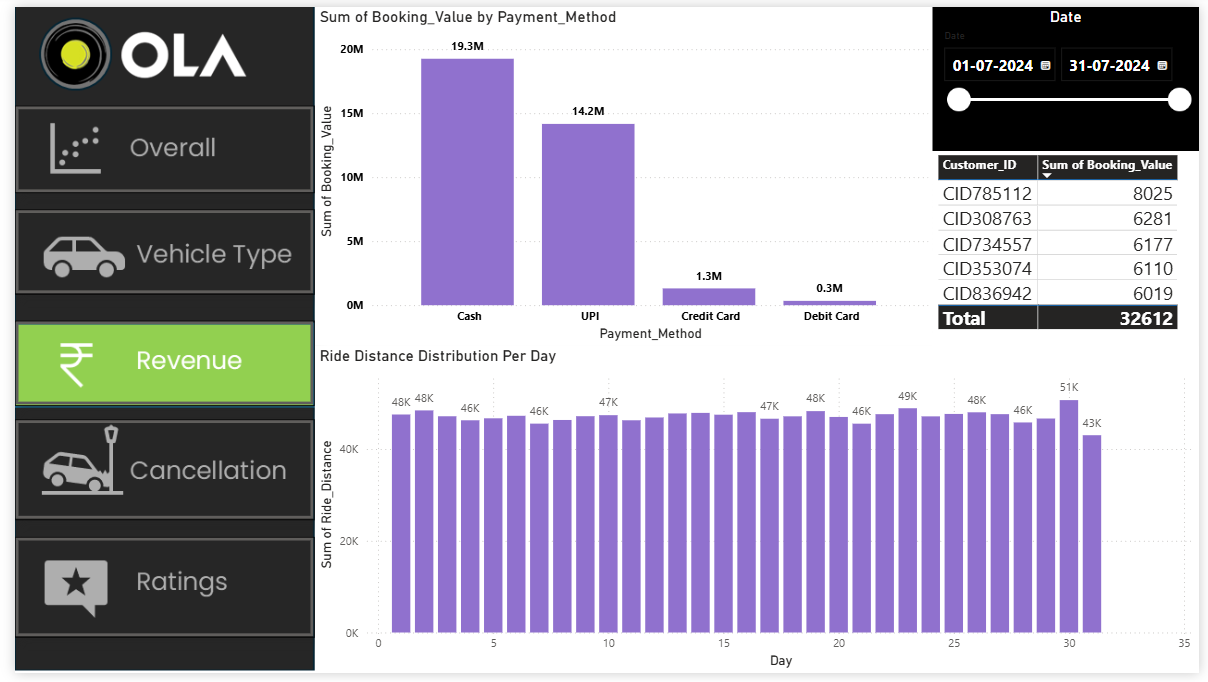

Layout of this report page (visuals, bound fields, positions):
{"tool":"powerbi","page":{"name":"Revenue","canvas":[1280,720],"ordinal":2},"visuals":[{"type":"actionButton","box":[0,338.9,323.8,91.9],"z":0},{"type":"actionButton","box":[0,446,323.8,108.4],"z":1000},{"type":"actionButton","box":[0,219.6,323.8,91.9],"z":2000},{"type":"actionButton","box":[0,573.6,323.8,108.4],"z":3000},{"type":"actionButton","box":[0,107,323.8,94.7],"z":4000},{"type":"columnChart","fields":{"Y":["Sum(Bookings.Booking_Value)"],"Category":["Bookings.Payment_Method"]},"box":[323.8,0,668.3,366.4],"z":5000},{"type":"columnChart","title":"Ride Distance Distribution Per Day","fields":{"Y":["Sum(Bookings.Ride_Distance)"],"Category":["Bookings.Date.Variation.Date Hierarchy.Day"]},"box":[323.8,366.4,956.4,354],"z":6000},{"type":"tableEx","fields":{"Values":["Bookings.Customer_ID","Sum(Bookings.Booking_Value)"]},"box":[992.1,155.1,288.2,230.5],"z":7000},{"type":"slicer","title":"Date","fields":{"Values":["Bookings.Date"]},"box":[992.1,0,288.2,155.1],"z":8000}]}

Visuals, with their boxes in screenshot pixels (x1, y1, x2, y2), scaled from the page's 1280x720 canvas onto the 1208x682 screenshot:
actionButton: crop(0, 321, 306, 408)
actionButton: crop(0, 422, 306, 525)
actionButton: crop(0, 208, 306, 295)
actionButton: crop(0, 543, 306, 646)
actionButton: crop(0, 101, 306, 191)
columnChart - Sum(Bookings.Booking_Value) x Bookings.Payment_Method: crop(306, 0, 936, 347)
"Ride Distance Distribution Per Day" columnChart: crop(306, 347, 1207, 681)
tableEx - Bookings.Customer_ID x Sum(Bookings.Booking_Value): crop(936, 147, 1207, 365)
"Date" slicer: crop(936, 0, 1207, 147)
